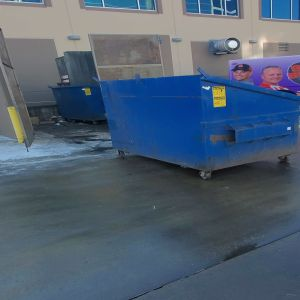Dumpster: (102, 87, 300, 183), (49, 83, 106, 125)
Person: (261, 64, 287, 90), (230, 63, 253, 83)
